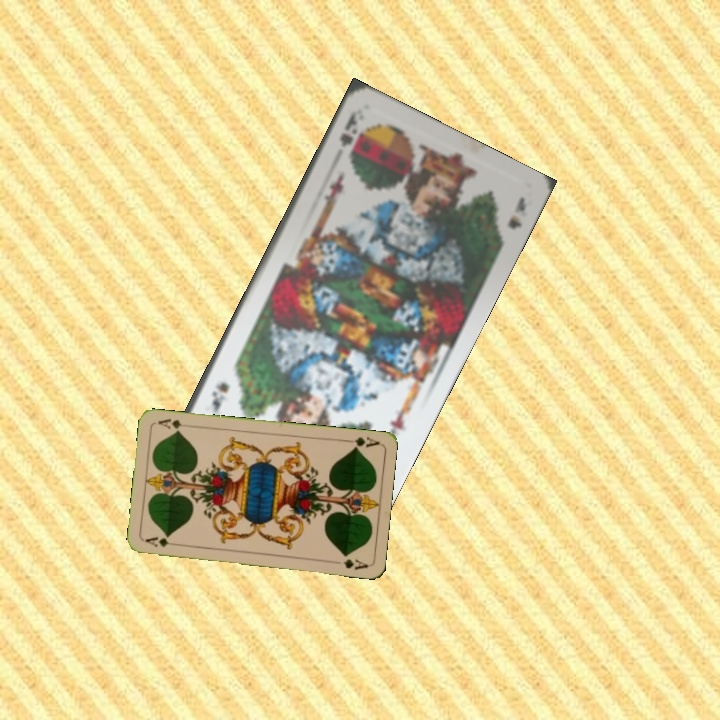GA: (341, 433, 381, 452), (141, 533, 182, 549)
SK: (335, 106, 365, 161)
